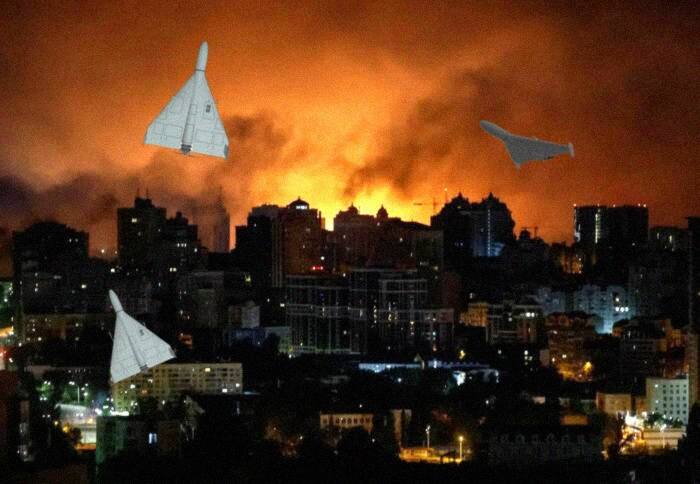shahed: (142, 37, 232, 162), (106, 287, 179, 382), (480, 115, 575, 171)
